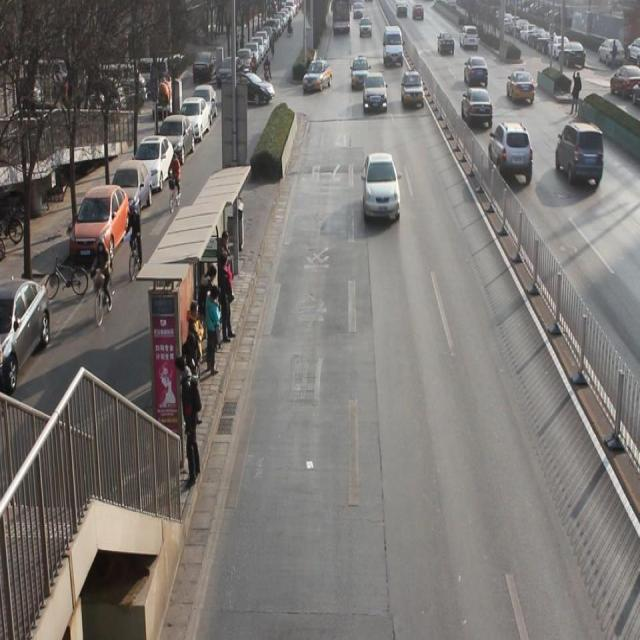car: (358, 152, 408, 232), (556, 121, 607, 193), (489, 125, 534, 186), (458, 84, 493, 128), (507, 68, 536, 109), (306, 56, 334, 98), (364, 76, 389, 115), (401, 73, 425, 108), (462, 55, 488, 86), (436, 29, 456, 58), (351, 56, 370, 86), (459, 24, 480, 51), (358, 18, 372, 38)
truck: (384, 26, 404, 68)
